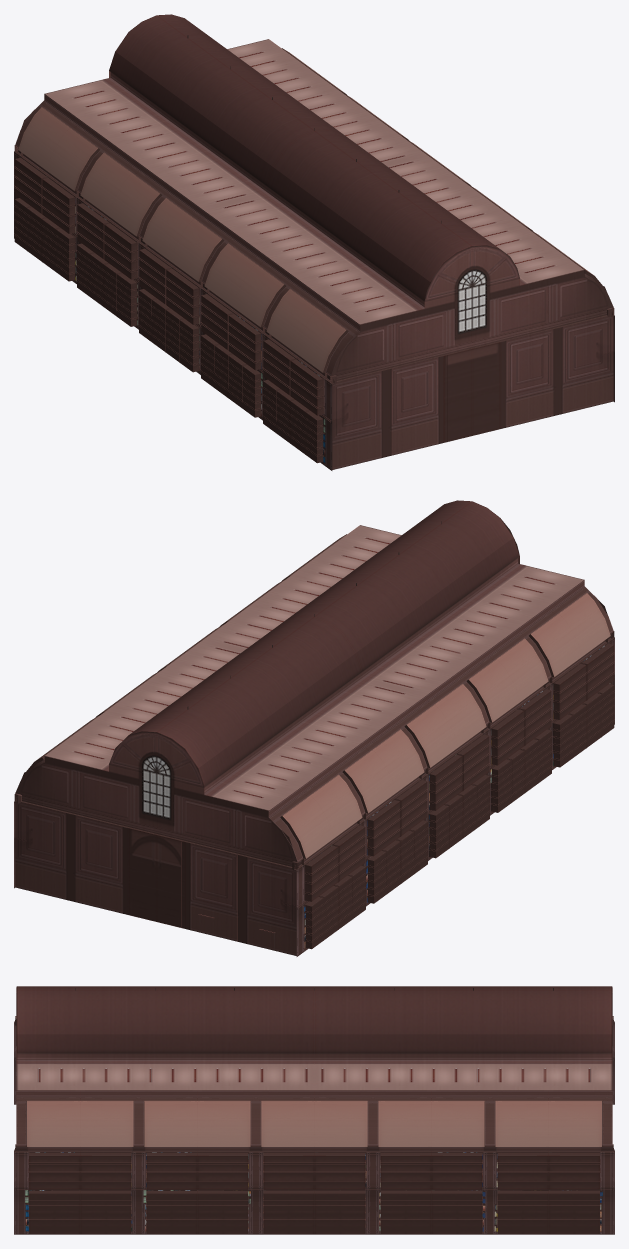
Rendered from TuShuGuan_01.FBX.
3 views of the same model, one above another, from view 1: azimuth 30°, elevation 25°; view 2: azimuth 150°, elevation 25°; view 3: azimuth 270°, elevation 25° (orthographic). The views are drawn at different scales.
Parts seen in each view (by area): view 1: qiangbi_01, qiangbi_02, book_01; view 2: qiangbi_01, book_01; view 3: qiangbi_01, book_02.
Part boxes in pixels (box(x1,y1,x2,y2)): qiangbi_01: box(14, 14, 614, 470); qiangbi_02: box(330, 245, 613, 469); book_01: box(20, 157, 325, 462); qiangbi_01: box(14, 500, 614, 956); book_01: box(304, 643, 610, 948); qiangbi_01: box(14, 986, 614, 1234); book_02: box(25, 1152, 602, 1231).
Size of the model in its own units: 6676 by 4123 by 12374.
